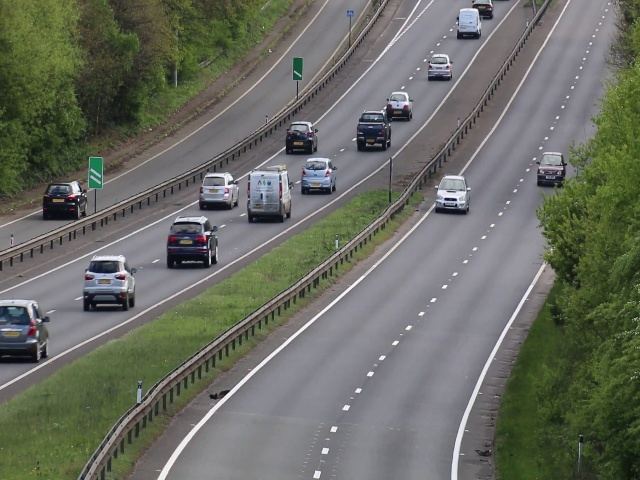car: (80, 252, 137, 310), (1, 298, 50, 363), (165, 216, 220, 272), (247, 167, 293, 223), (41, 177, 88, 220), (199, 170, 241, 210), (357, 110, 392, 153), (299, 156, 339, 193), (434, 174, 468, 216), (282, 118, 317, 157), (533, 149, 566, 184), (455, 5, 484, 39), (425, 52, 455, 82), (385, 90, 413, 117)
